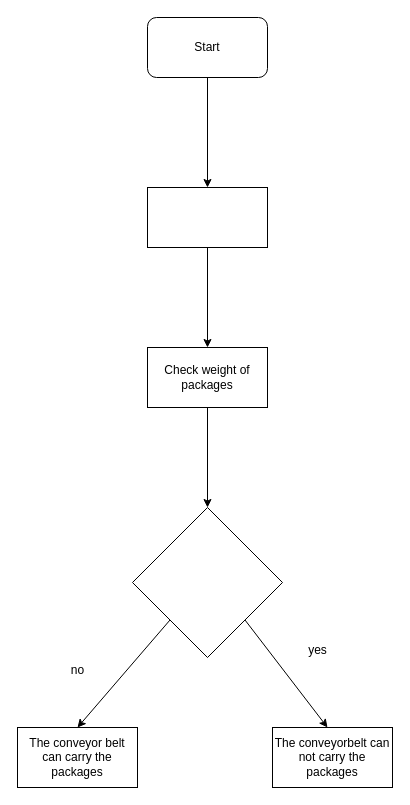
The diagram is 410 pixels wide and 805 high, and some of its shapes have lost their labels. Each missing label, with the centre of its shape:
"Check number of motors" goes at point (207, 217).
"is number of motors divided by packages times 5.6 >=1?" goes at point (207, 582).
